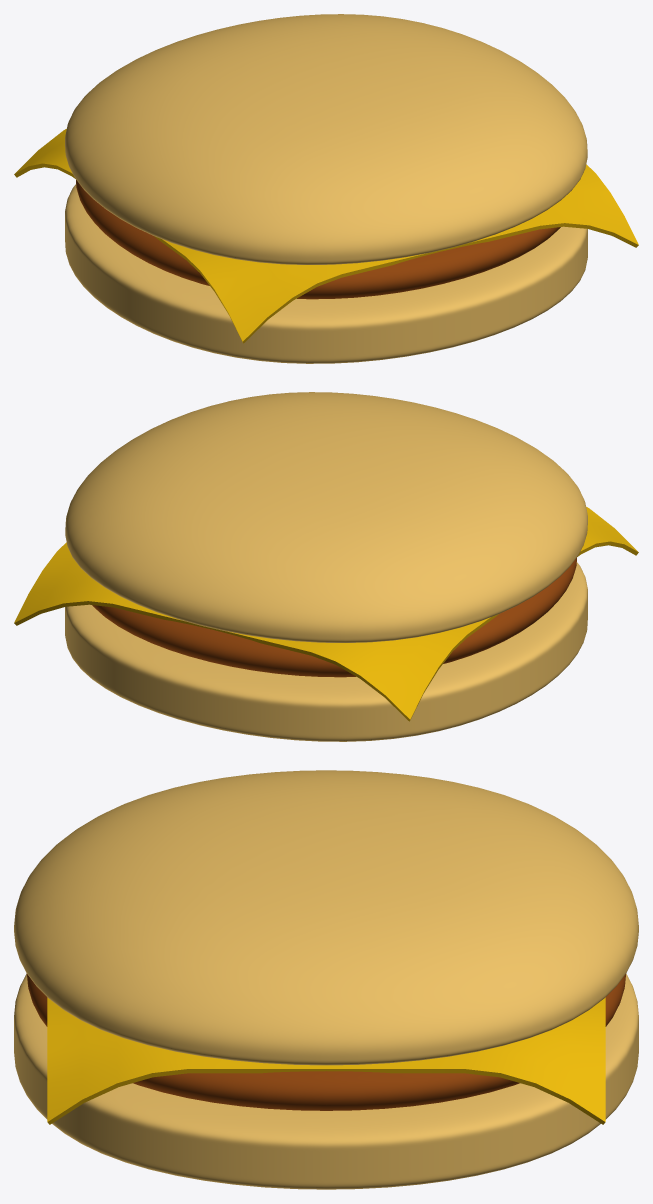
File: hamburger.glb
The picture shows the model from 3 angles, top to bottom: view 1: azimuth 30°, elevation 25°; view 2: azimuth 150°, elevation 25°; view 3: azimuth 270°, elevation 25°; orthographic projection. The views are drawn at different scales.
Parts seen in each view (by area): view 1: 立方体.002, 立方体.001, 平面, 立方体; view 2: 立方体.002, 立方体.001, 平面, 立方体; view 3: 立方体.002, 立方体.001, 平面, 立方体.
Boxes of the visible parts, x1,y1,x2,y2 form: 立方体.002: (65,14,587,264); 立方体.001: (65,184,587,363); 平面: (14,129,638,343); 立方体: (76,180,560,299); 立方体.002: (65,392,587,642); 立方体.001: (65,562,587,741); 平面: (14,507,638,721); 立方体: (92,558,576,677); 立方体.002: (14,770,638,1065); 立方体.001: (14,974,638,1189); 平面: (47,997,605,1124); 立方体: (26,973,626,1110).
Size of the model in its own units: 9.26 by 3.75 by 9.26.
